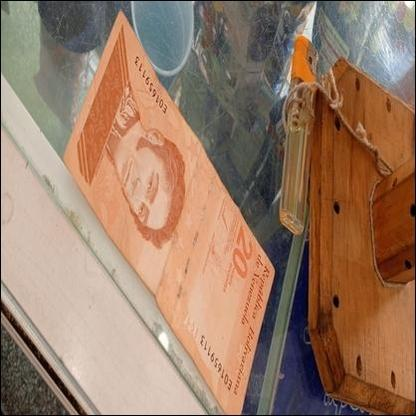twenty-front-vef: (61, 9, 276, 416)
